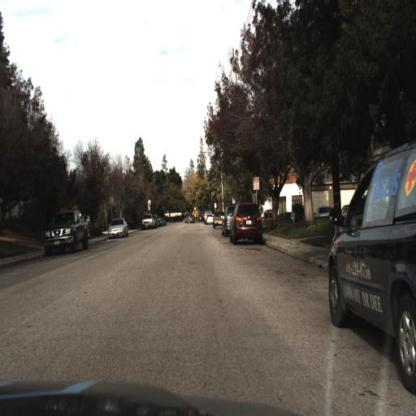car: (328, 139, 416, 399), (42, 210, 91, 260), (42, 210, 90, 260), (230, 201, 266, 250), (228, 202, 264, 246), (102, 214, 130, 244), (105, 216, 131, 242), (221, 202, 236, 240), (312, 200, 336, 221), (139, 209, 156, 230), (212, 207, 224, 233), (180, 211, 197, 229)
